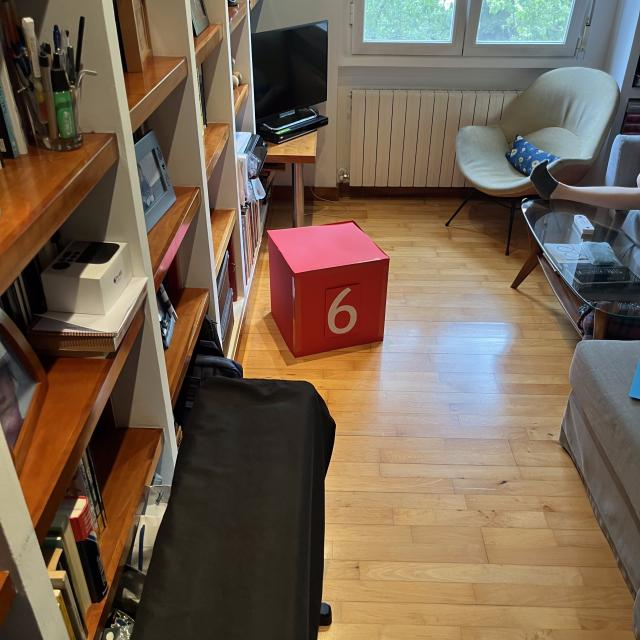box: (263, 216, 392, 359)
